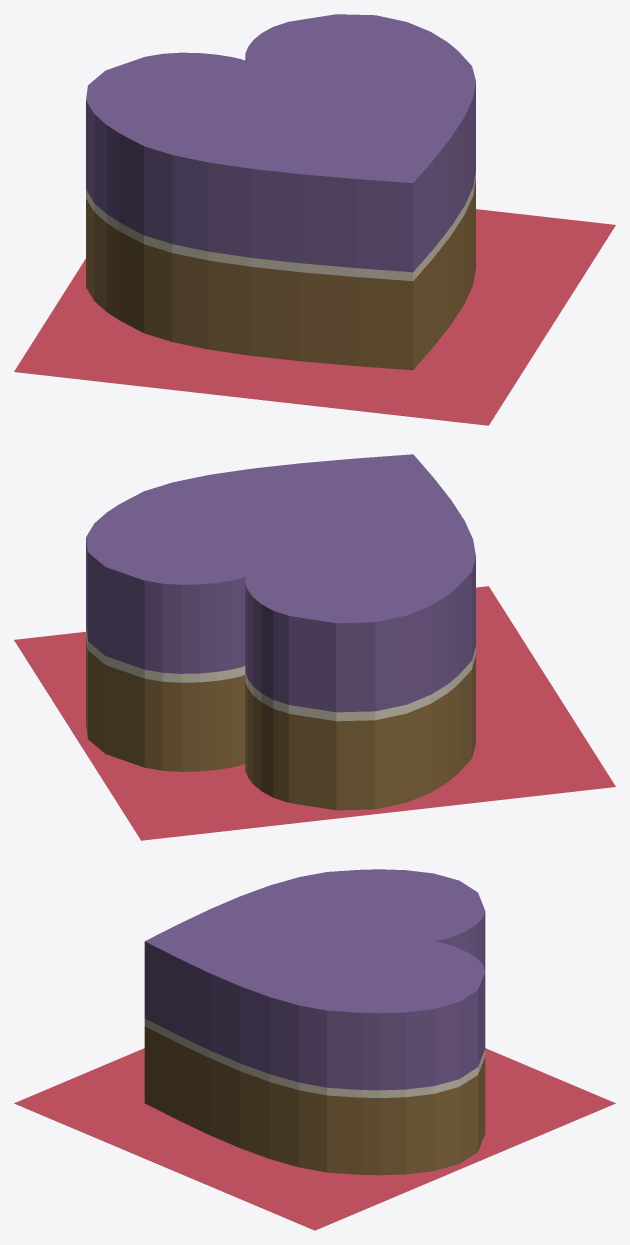
File: CVU.glb
3 views of the same model, one above another, from view 1: azimuth 30°, elevation 25°; view 2: azimuth 150°, elevation 25°; view 3: azimuth 270°, elevation 25° (orthographic). The views are drawn at different scales.
Parts seen in each view (by area): view 1: Mesh_Mesh_head_geo.001_lambert2SG.001; view 2: Mesh_Mesh_head_geo.001_lambert2SG.001; view 3: Mesh_Mesh_head_geo.001_lambert2SG.001.
Boxes of the visible parts, x1,y1,x2,y2 form: Mesh_Mesh_head_geo.001_lambert2SG.001: [14, 14, 615, 425]; Mesh_Mesh_head_geo.001_lambert2SG.001: [14, 454, 615, 840]; Mesh_Mesh_head_geo.001_lambert2SG.001: [14, 869, 615, 1230].
Size of the model in its own units: 0.0354 by 0.0105 by 0.0354.
